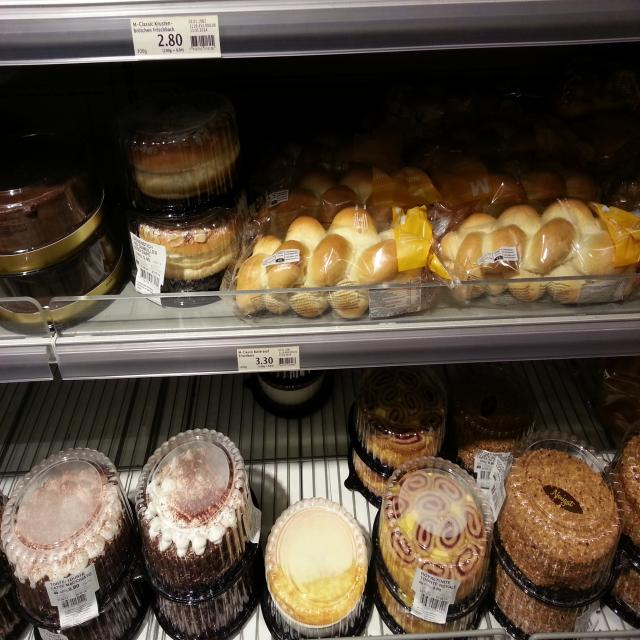Bakery: (0, 447, 138, 620), (494, 431, 630, 603), (233, 200, 430, 316), (134, 426, 263, 600), (430, 196, 640, 302), (372, 452, 494, 618), (261, 494, 375, 640), (0, 129, 108, 270), (0, 212, 125, 327), (127, 100, 242, 208), (346, 380, 446, 472), (132, 201, 244, 277)
